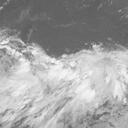cyclone: (18, 45, 93, 106)
